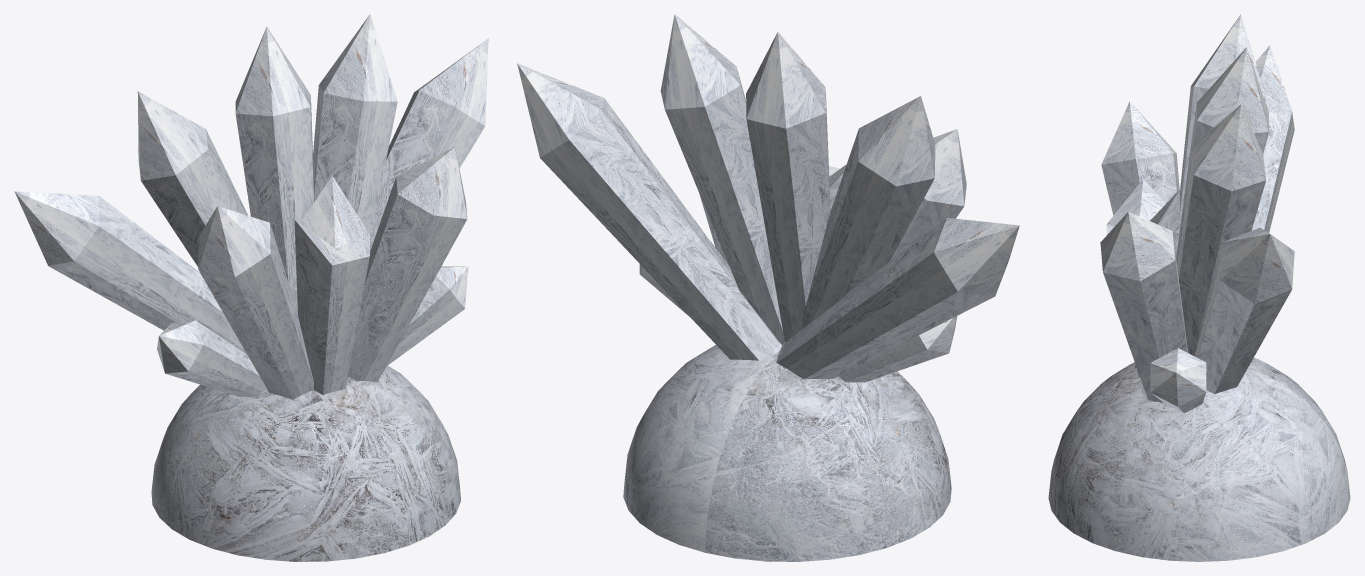
File: LampLight_3DAsset_GreenCrystal.FBX
The picture shows the model from 3 angles, left to right: view 1: azimuth 30°, elevation 25°; view 2: azimuth 150°, elevation 25°; view 3: azimuth 270°, elevation 25°; orthographic projection. The views are drawn at different scales.
Parts seen in each view (by area): view 1: LampLight_Crystal_Base, Green_Crystal007, Green_Crystal001, Green_Crystal002, Green_Crystal003, Green_Crystal, Green_Crystal020, Green_Crystal005, Green_Crystal021, Green_Crystal008, Green_Crystal009; view 2: LampLight_Crystal_Base, Green_Crystal021, Green_Crystal007, Green_Crystal020, Green_Crystal003, Green_Crystal005, Green_Crystal002, Green_Crystal008; view 3: LampLight_Crystal_Base, Green_Crystal020, Green_Crystal021, Green_Crystal001, Green_Crystal002, Green_Crystal003, Green_Crystal007, Green_Crystal009, Green_Crystal005, Green_Crystal.
Boxes of the visible parts, x1=… form: LampLight_Crystal_Base: x1=151, y1=365, x2=460, y2=561; Green_Crystal007: x1=14, y1=191, x2=246, y2=354; Green_Crystal001: x1=348, y1=147, x2=467, y2=381; Green_Crystal002: x1=197, y1=206, x2=313, y2=399; Green_Crystal003: x1=235, y1=26, x2=314, y2=312; Green_Crystal: x1=294, y1=175, x2=369, y2=394; Green_Crystal020: x1=313, y1=14, x2=397, y2=239; Green_Crystal005: x1=137, y1=91, x2=248, y2=266; Green_Crystal021: x1=370, y1=38, x2=488, y2=250; Green_Crystal008: x1=157, y1=320, x2=266, y2=396; Green_Crystal009: x1=387, y1=266, x2=468, y2=365; LampLight_Crystal_Base: x1=623, y1=345, x2=951, y2=561; Green_Crystal021: x1=517, y1=63, x2=781, y2=360; Green_Crystal007: x1=776, y1=218, x2=1019, y2=379; Green_Crystal020: x1=660, y1=14, x2=784, y2=344; Green_Crystal003: x1=746, y1=32, x2=830, y2=341; Green_Crystal005: x1=801, y1=96, x2=935, y2=329; Green_Crystal002: x1=890, y1=129, x2=966, y2=260; Green_Crystal008: x1=838, y1=316, x2=957, y2=382; LampLight_Crystal_Base: x1=1048, y1=357, x2=1350, y2=561; Green_Crystal020: x1=1176, y1=104, x2=1265, y2=356; Green_Crystal021: x1=1195, y1=227, x2=1294, y2=394; Green_Crystal001: x1=1100, y1=211, x2=1187, y2=402; Green_Crystal002: x1=1101, y1=101, x2=1179, y2=215; Green_Crystal003: x1=1191, y1=47, x2=1268, y2=153; Green_Crystal007: x1=1251, y1=45, x2=1294, y2=232; Green_Crystal009: x1=1150, y1=348, x2=1206, y2=413; Green_Crystal005: x1=1180, y1=14, x2=1265, y2=225; Green_Crystal: x1=1106, y1=179, x2=1180, y2=377.
Size of the model in its own units: 103 by 94.44 by 58.22.
